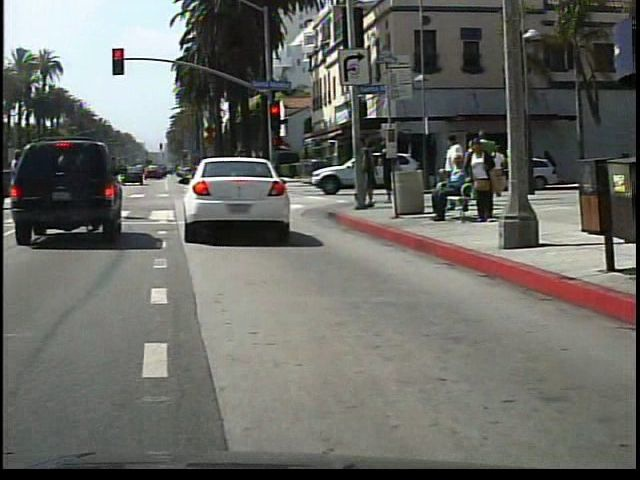person: (469, 134, 506, 230), (434, 155, 478, 222), (229, 141, 266, 218)
